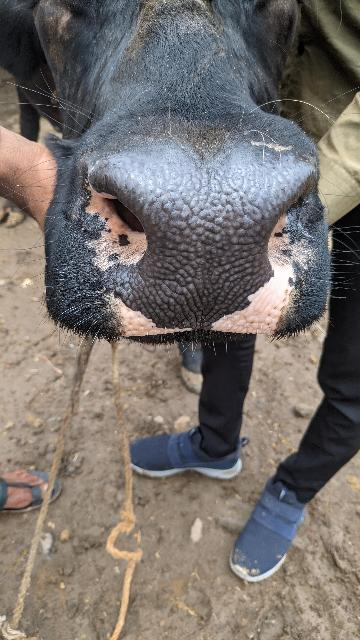Muzzle: (84, 148, 294, 330)
